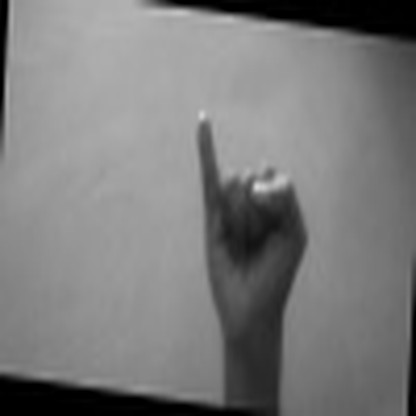i: (179, 95, 312, 330)
